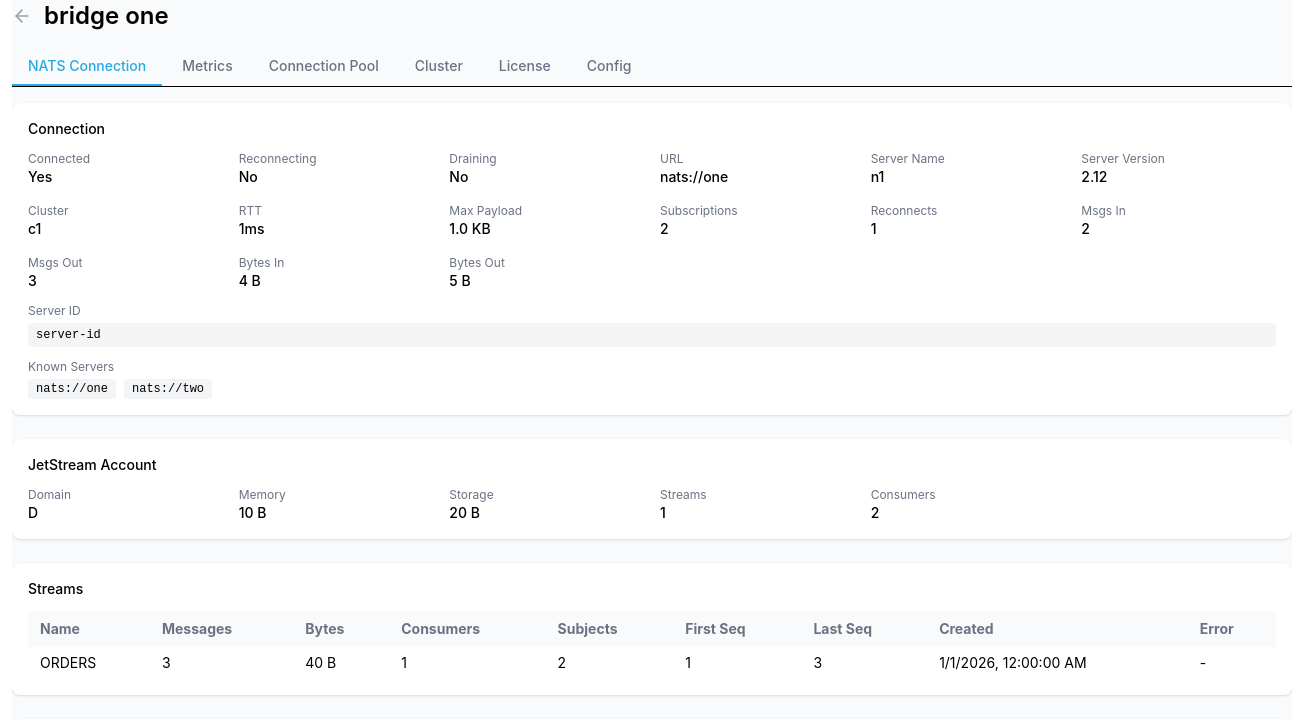
Test: MQTTBridgeDetailPage › renders the JetStream health pair unhealthy arms (#164)
The width and height of the screenshot is (1292, 720).
Expected: the heading "JetStream Account" is shown, [28,456,156,473]
Click the button "Metrics" at (207, 67), box [166,48,249,86]
(page scrolled)
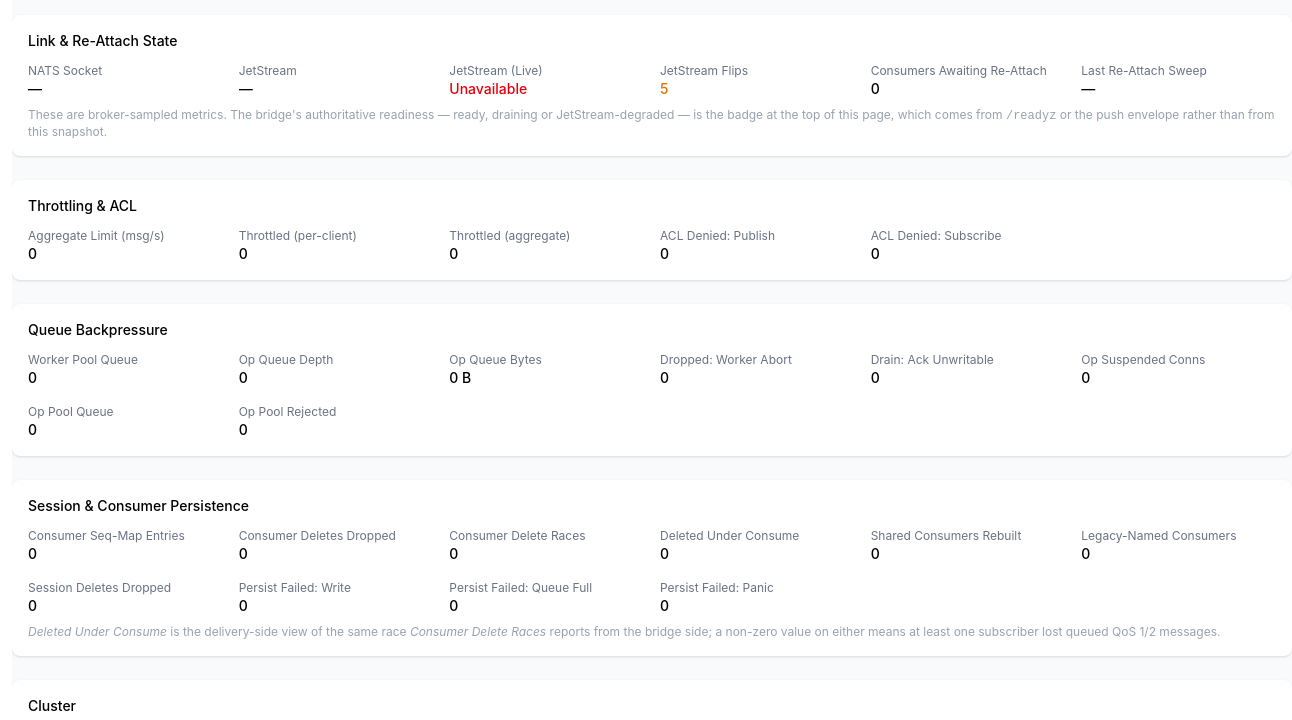
Result: the text "Unavailable" is shown at [449,80,527,97]
Result: the text "JetStream Flips" is shown at [660,63,748,78]
Result: the text "Dropped: Worker Abort" is shown at [660,352,792,367]
